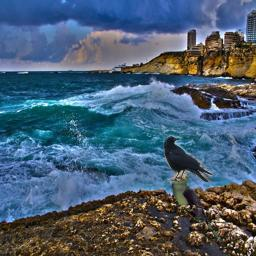Crow: (163, 134, 212, 184)
Cuckoo: (171, 173, 225, 243)
